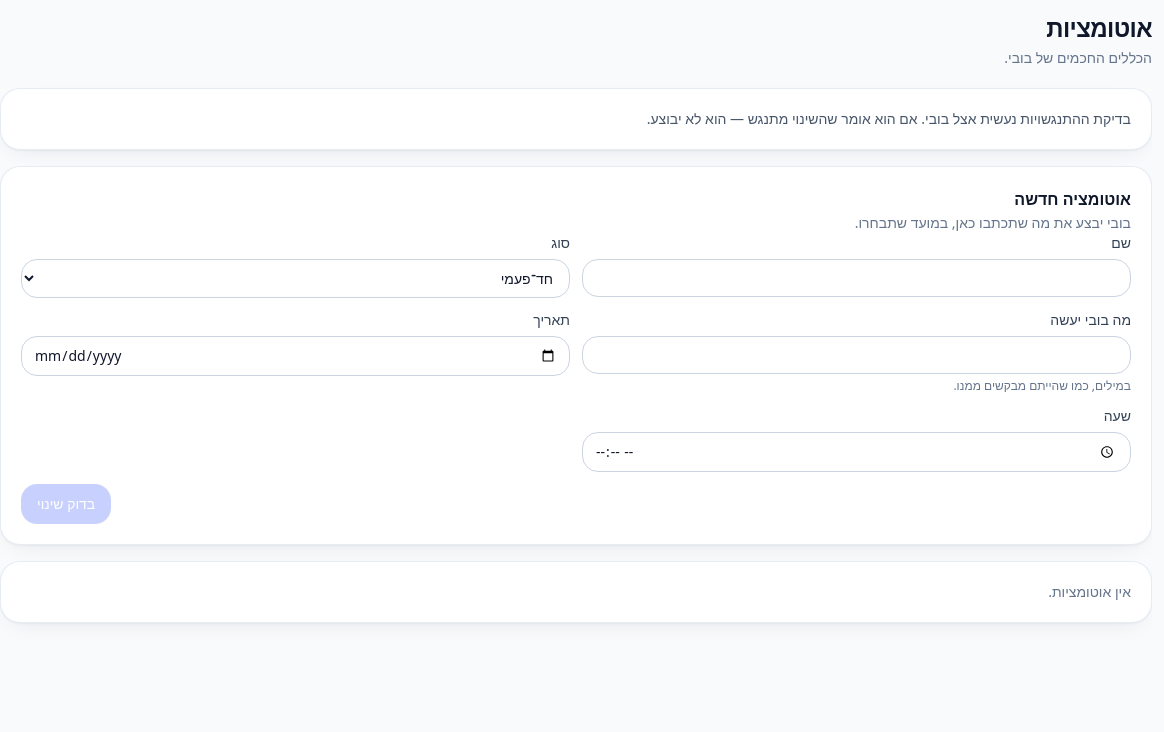
Test: the rules screen › will not send a weekly rule with no day chosen
The width and height of the screenshot is (1164, 732).
Check: the heading "אוטומציה חדשה" is shown, box x1=1014 y1=188 x2=1131 y2=210
Type "בוקר" into the field labelled "שם". click: [856, 278]
box: x1=582 y1=259 x2=1131 y2=297
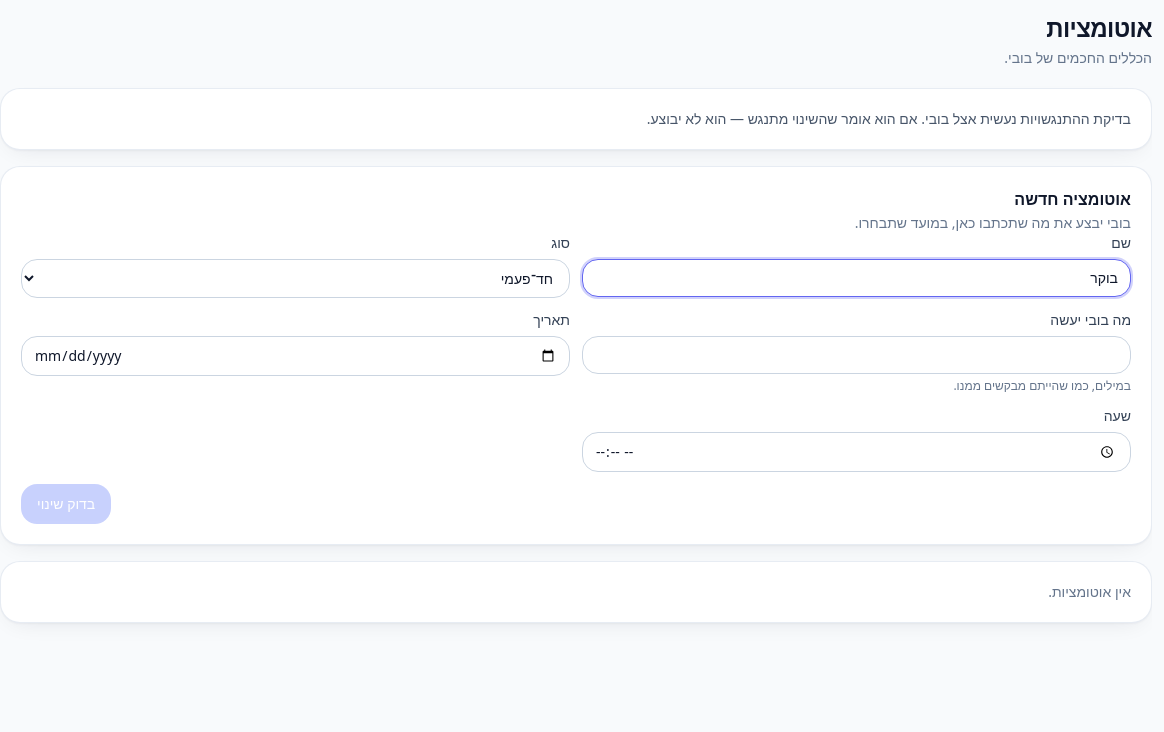
Type "תדליק את הדוד" into the field labelled "מה בובי יעשה". click: [856, 355]
box: x1=582 y1=336 x2=1131 y2=374
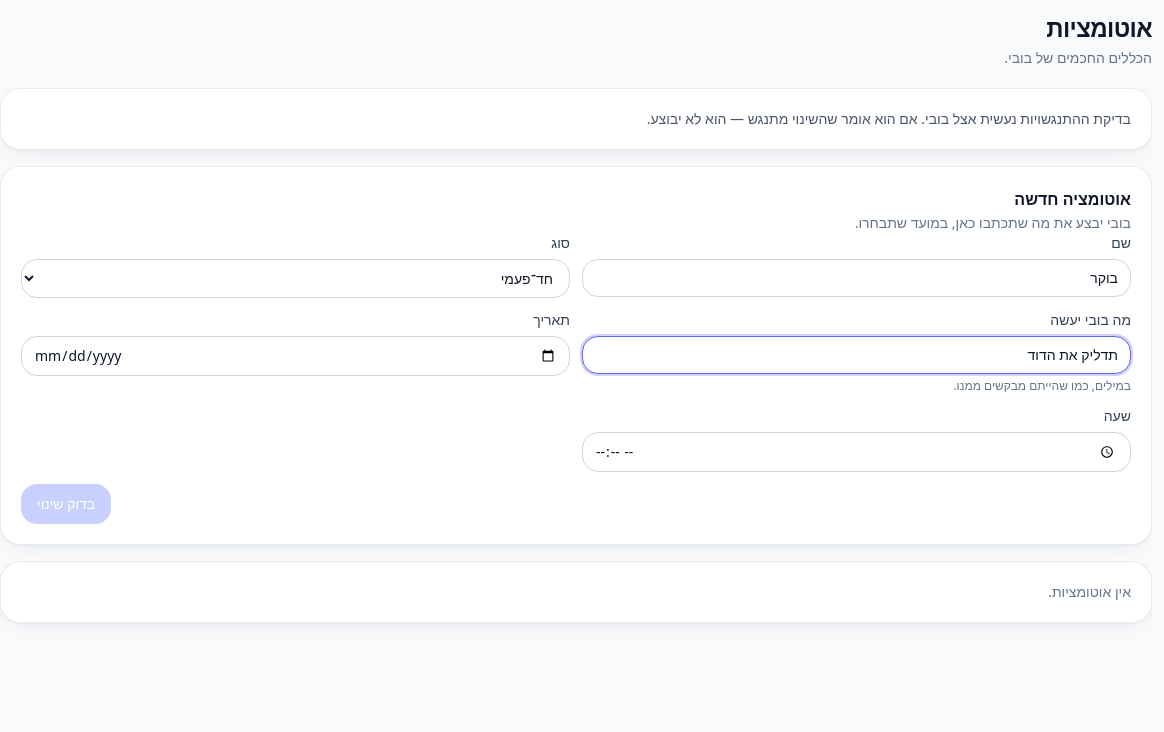
Select "שבועי" in the dropdown labelled "סוג". click: [296, 278]
box: x1=21 y1=259 x2=570 y2=298
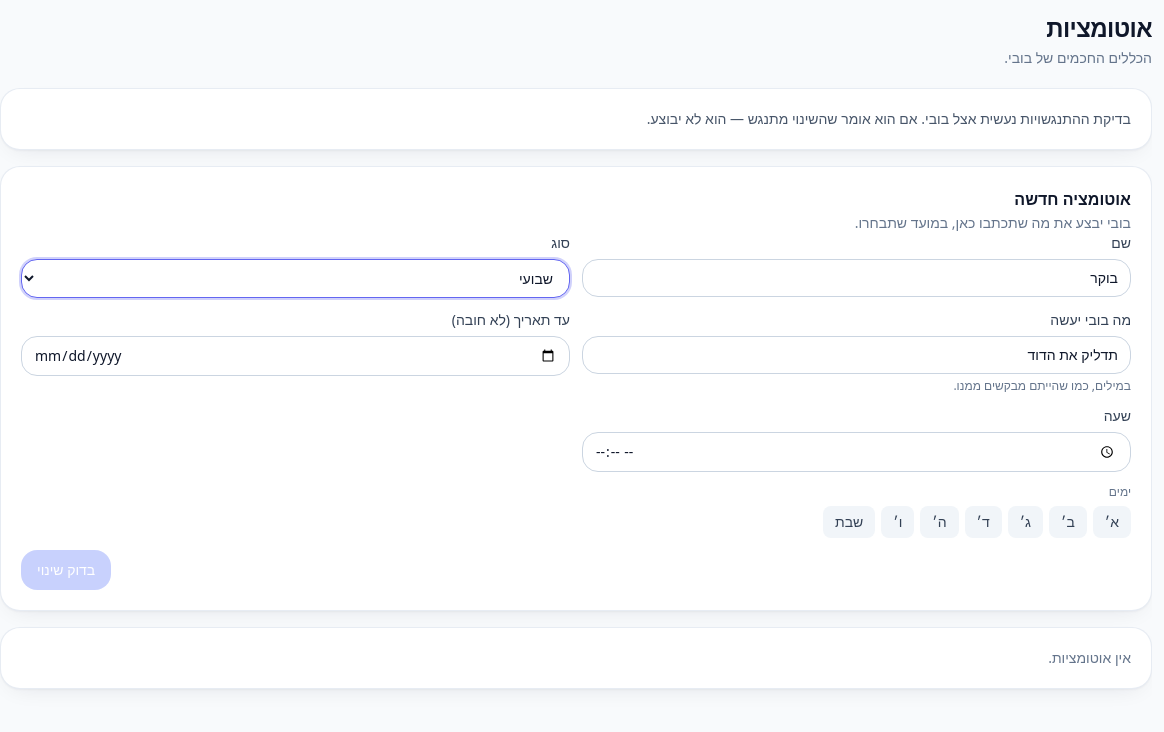
Type "06:30" into the time field labelled "שעה". click: [856, 452]
box: x1=582 y1=432 x2=1131 y2=472
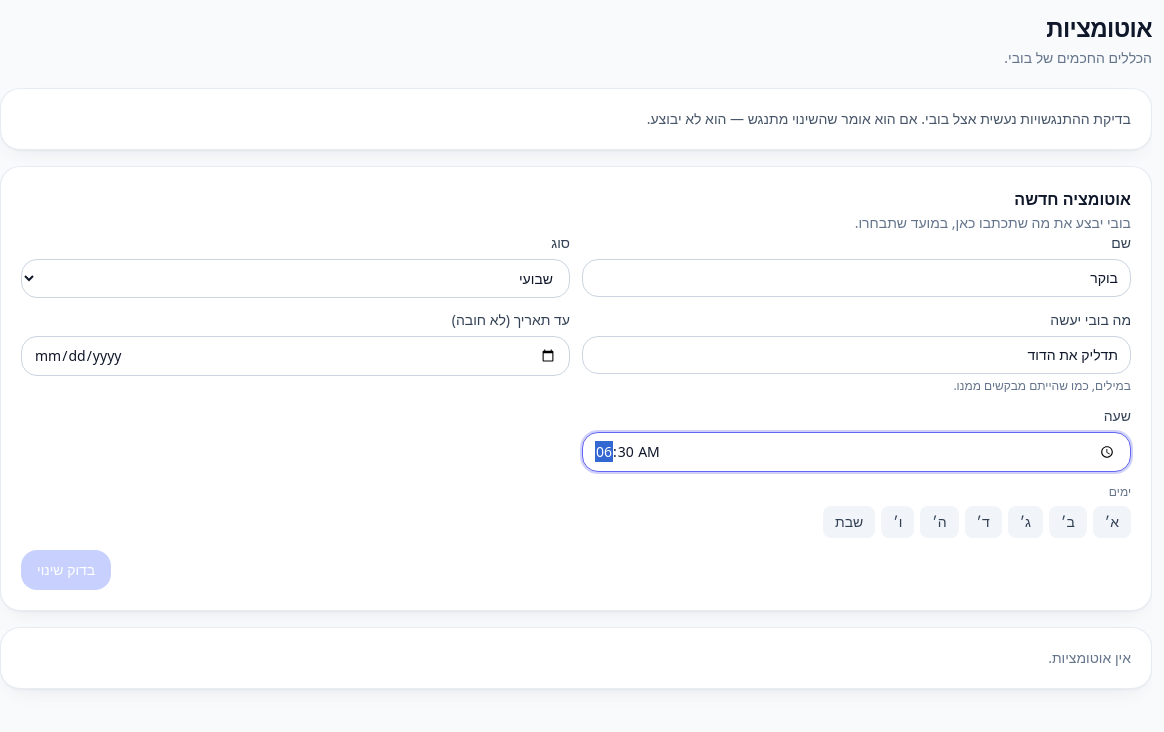
Check: the button "בדוק שינוי" is disabled, box x1=21 y1=550 x2=111 y2=590
Click the button "ג׳". click: [1025, 522]
box: x1=1008 y1=506 x2=1043 y2=538
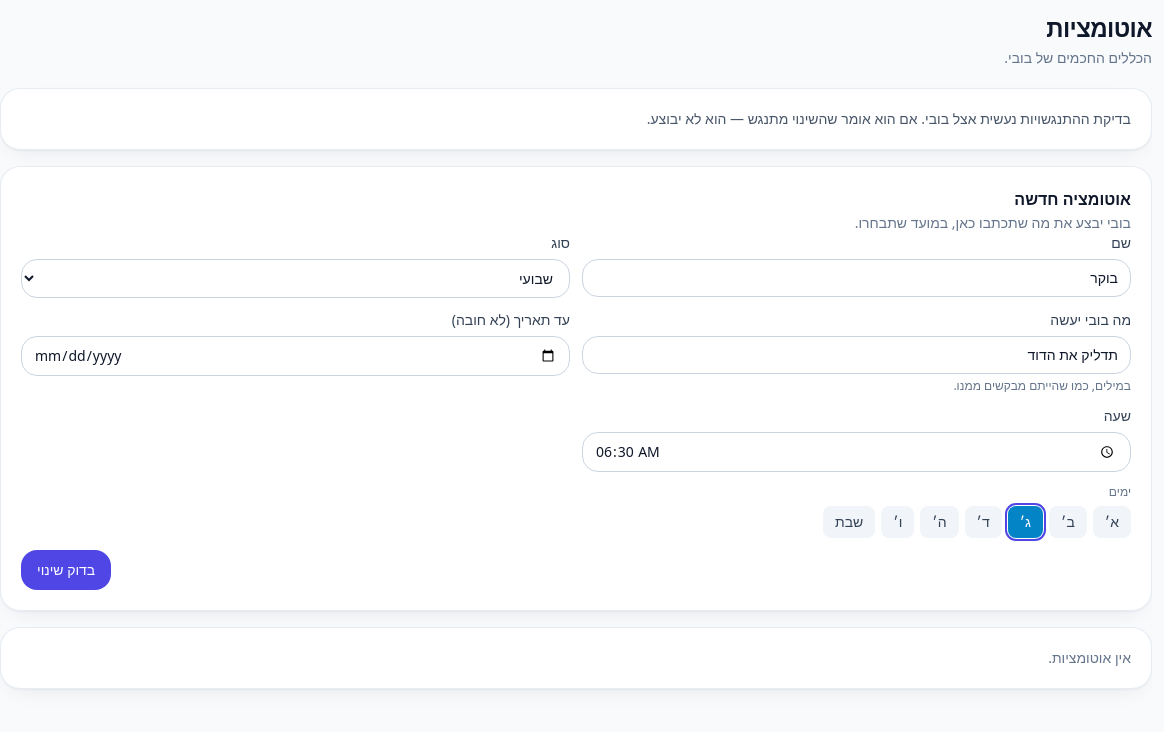
Check: the button "בדוק שינוי" is enabled, box x1=21 y1=550 x2=111 y2=590
